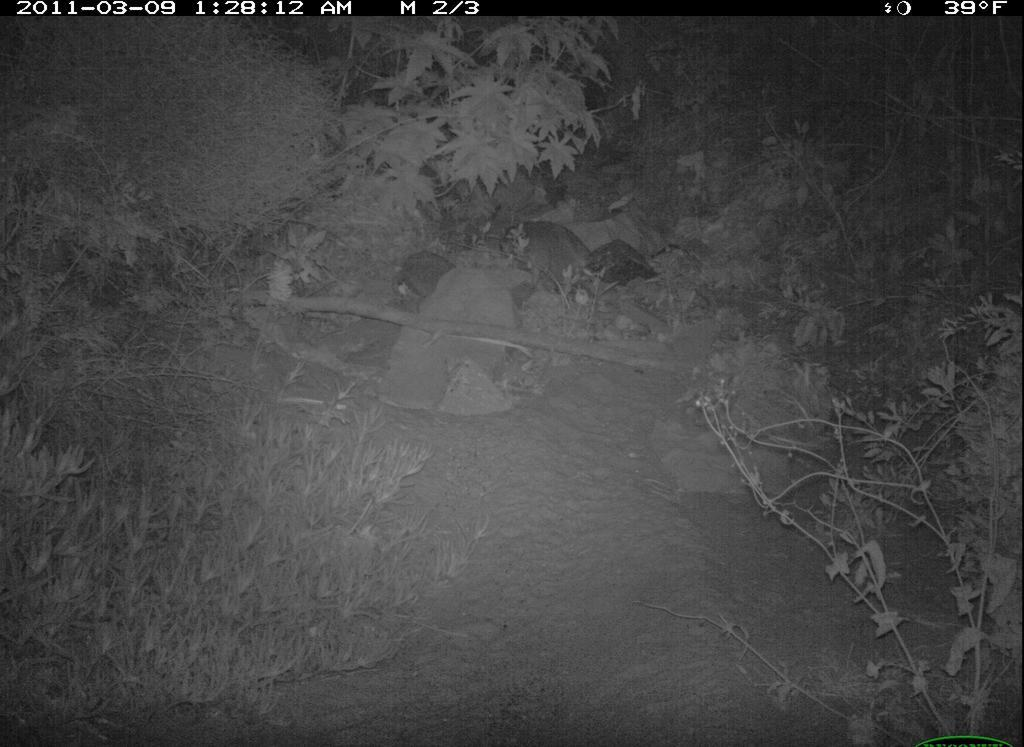raccoon: (495, 217, 607, 304)
